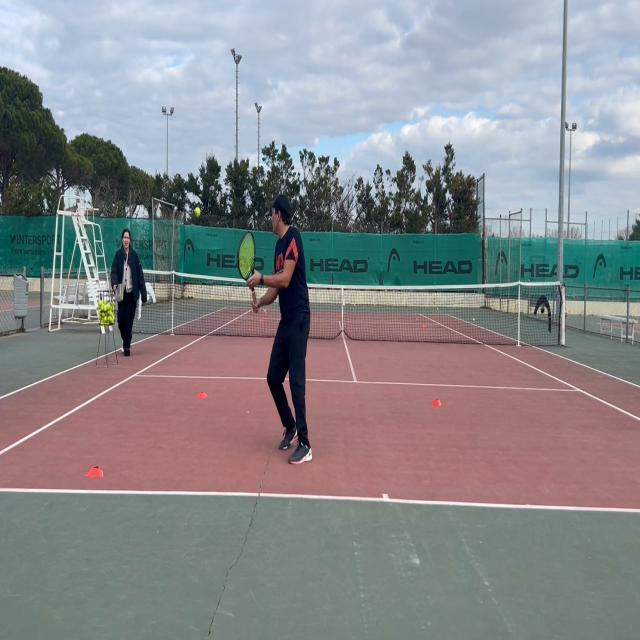ball: (194, 207, 200, 217), (264, 308, 266, 314), (354, 303, 356, 307), (374, 302, 376, 306), (436, 307, 438, 311), (473, 318, 475, 322)
